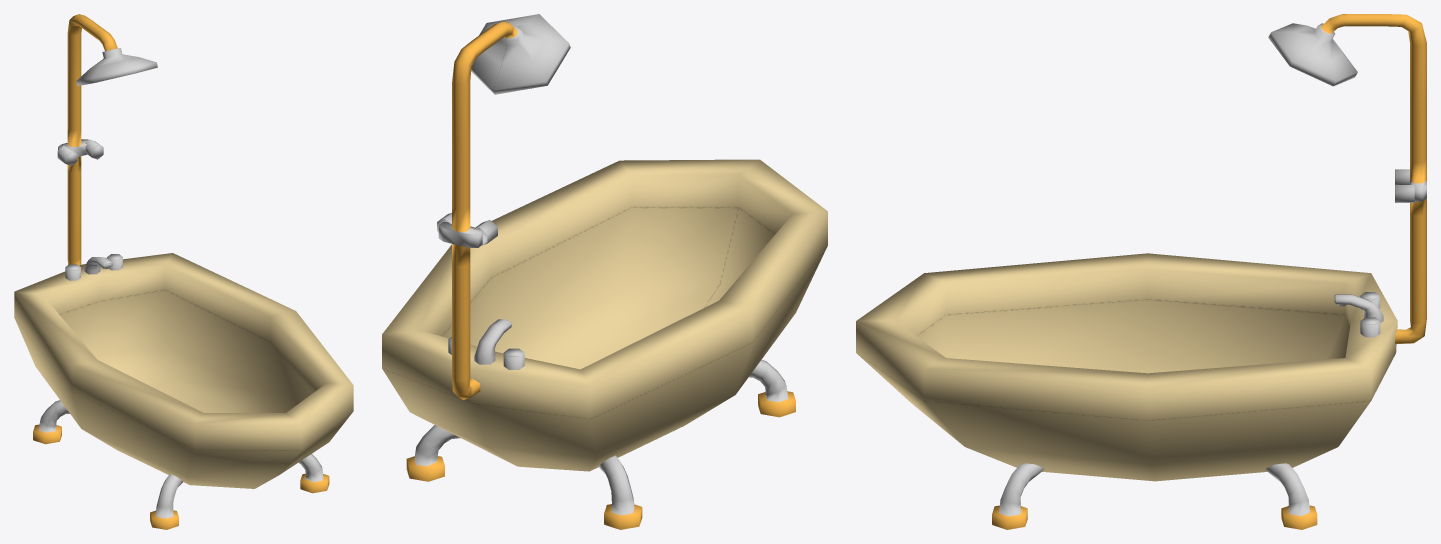
The model's file is Bath.fbx.
3 renders of one model, left to right at view 1: azimuth 30°, elevation 25°; view 2: azimuth 150°, elevation 25°; view 3: azimuth 270°, elevation 25°, orthographic. The views are drawn at different scales.
Parts seen in each view (by area): view 1: Banheira; view 2: Banheira; view 3: Banheira.
Part boxes in pixels (x1=…): Banheira: x1=14, y1=14, x2=353, y2=529; Banheira: x1=382, y1=14, x2=827, y2=529; Banheira: x1=856, y1=14, x2=1426, y2=529.
Bounding box in the file's own units: 2.8 × 4.46 × 4.99.
1 material, 1 textured.
